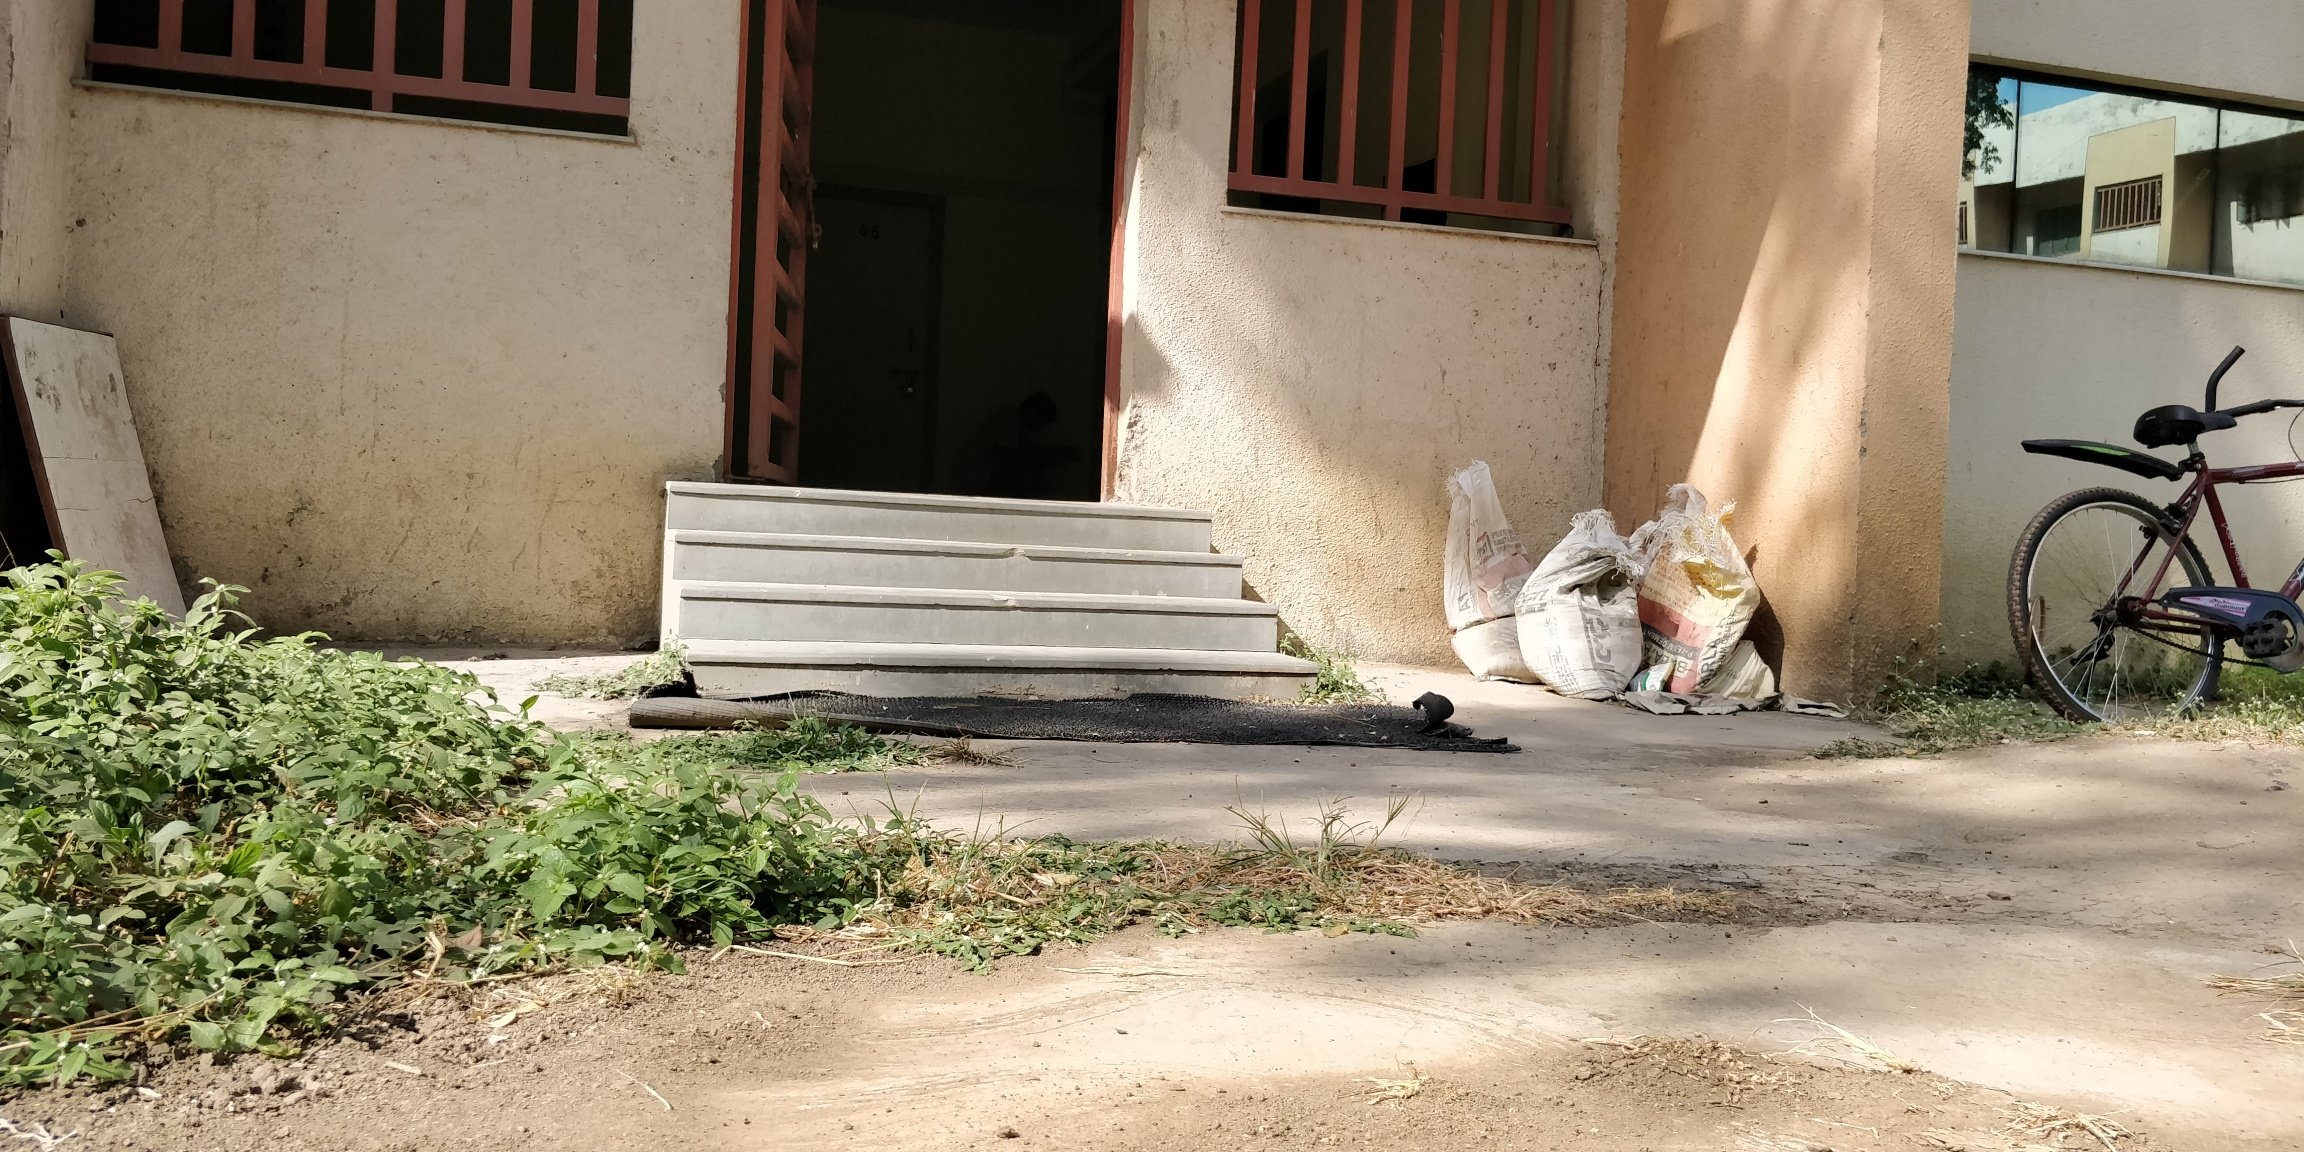stairs_up: (658, 464, 1311, 724)
